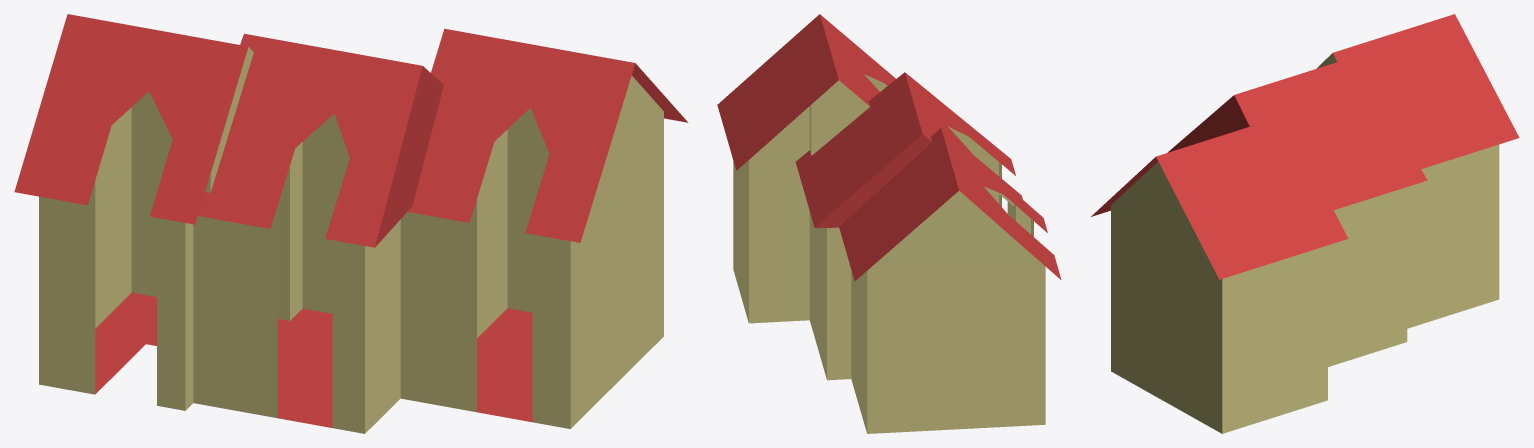
3 views of the same model, side by side, from view 1: azimuth 30°, elevation 25°; view 2: azimuth 150°, elevation 25°; view 3: azimuth 270°, elevation 25° (orthographic). The views are drawn at different scales.
Bounding box in the file's own units: 34.61 × 29.35 × 18.89.
